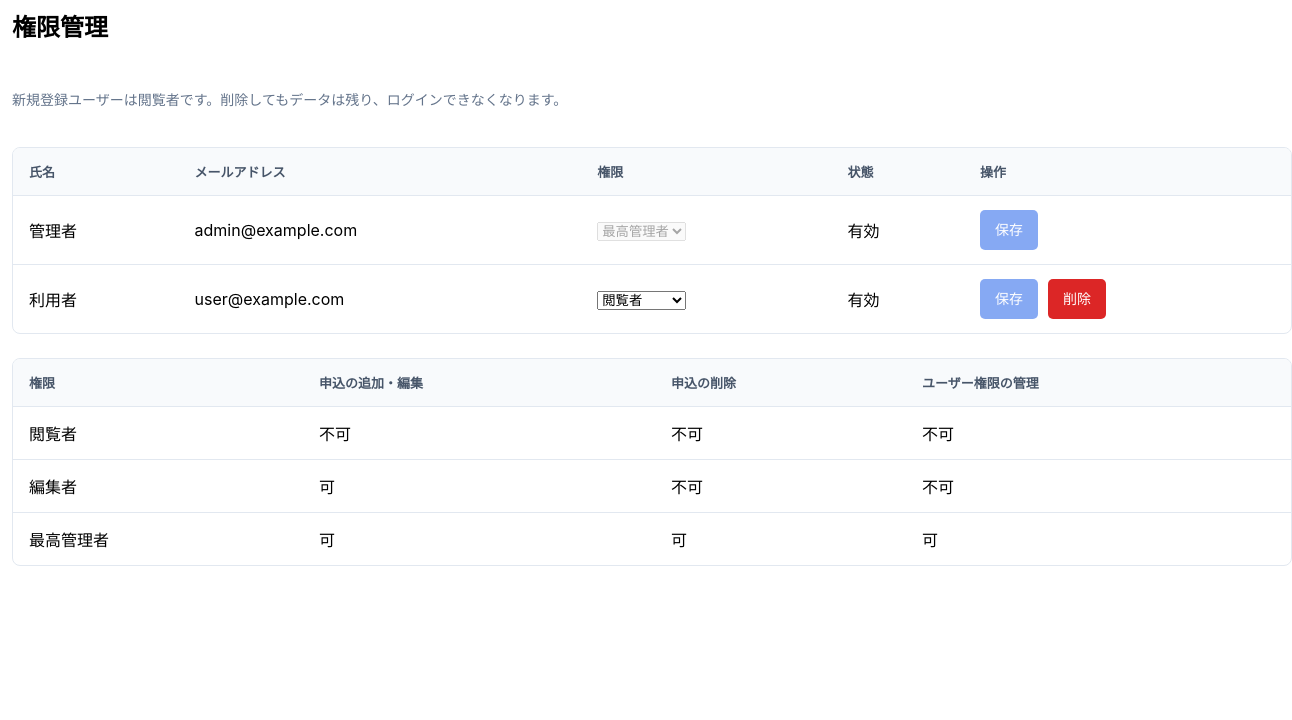
UserRoles › loads users and saves a changed role
Select "編集者" in the dropdown in the row of "利用者". click: (642, 300)
box: [597, 290, 686, 310]
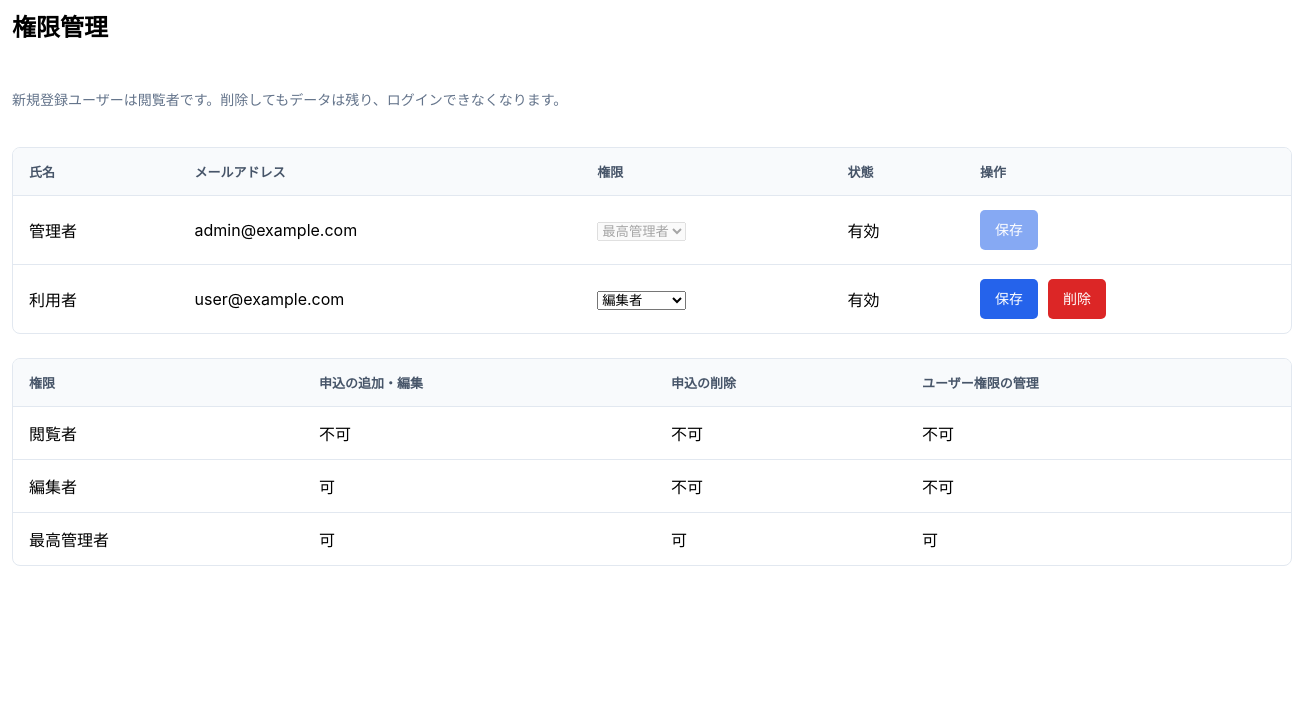
Click the button "保存" in the row of "利用者". click: (1009, 299)
box: [980, 279, 1038, 319]
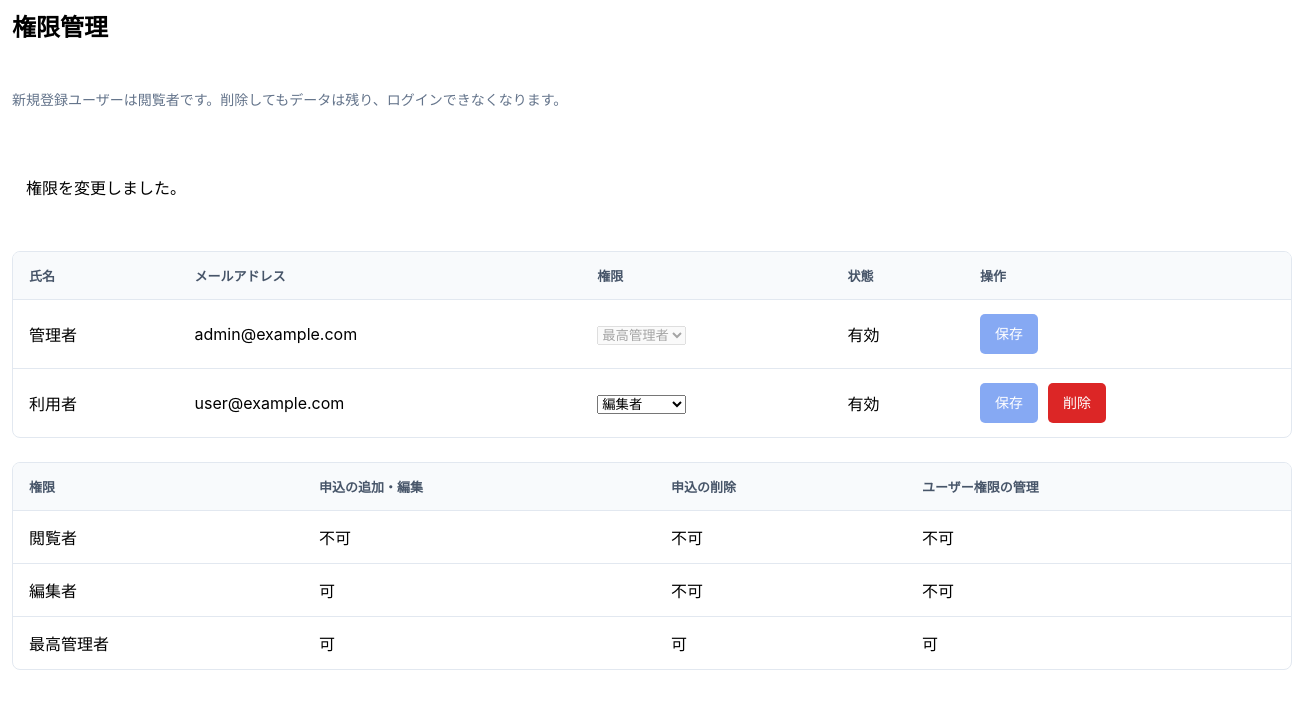
Expected: the text "権限を変更しました。" is shown, [26, 178, 186, 198]
